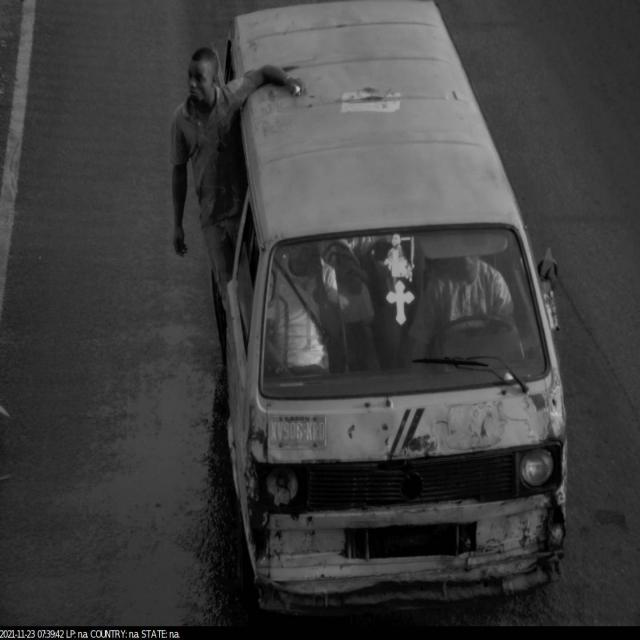windshield: (253, 216, 566, 410)
